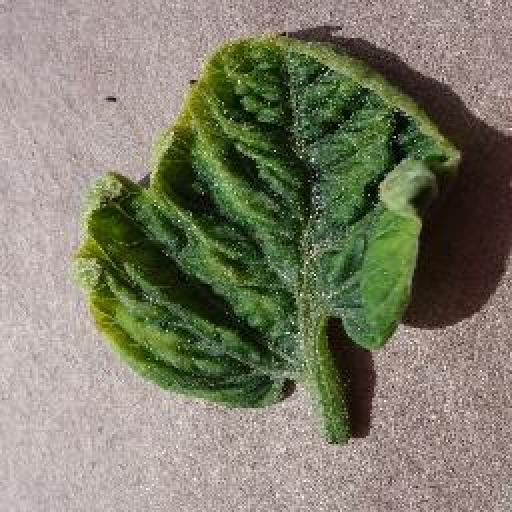disease_tomato: (78, 31, 461, 412)
